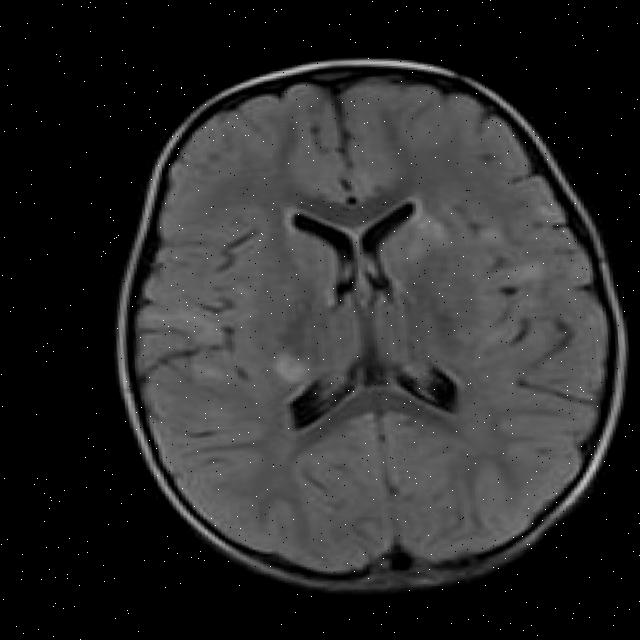NoTumor: (90, 45, 640, 603)
